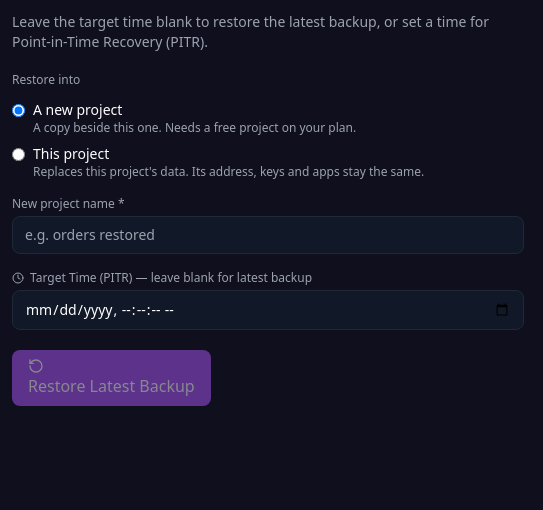
Scenario: RestoreForm progress › an internal step name is never shown
The image size is (543, 510).
Type "copy" into the field labelled "New project name *" at (268, 235), box top-left (12, 216), bottom-right (524, 254)
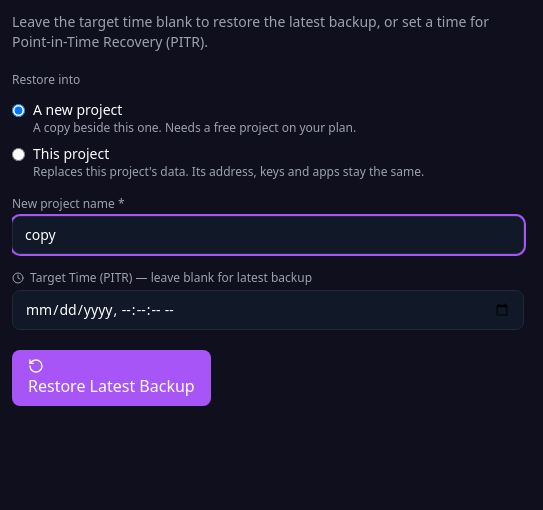
Click the button "Restore Latest Backup" at (111, 378), box top-left (12, 350), bottom-right (211, 406)
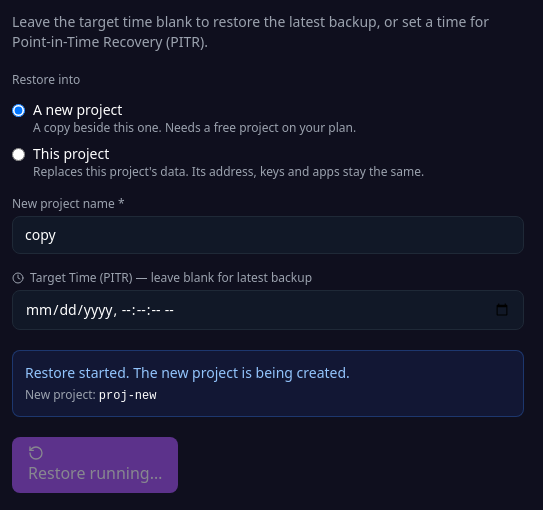
expect the element with test id "restore-result" shows "Restore started": met, box top-left (25, 363), bottom-right (350, 382)
